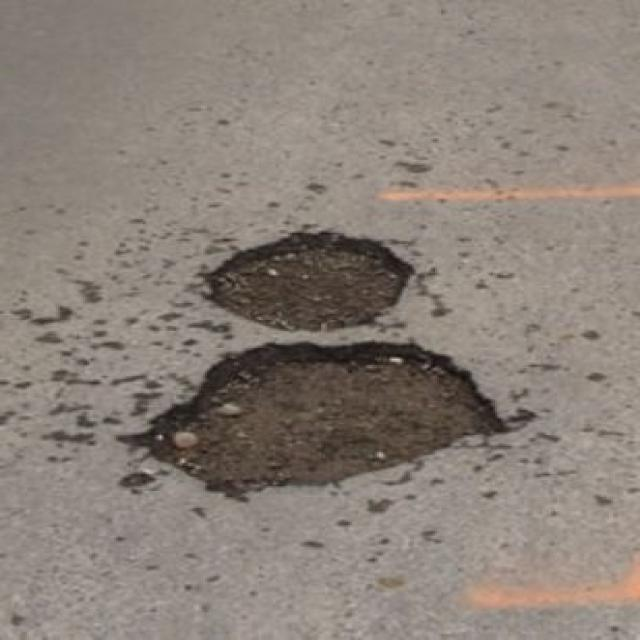Pothole: (123, 336, 521, 506), (202, 225, 428, 334)
